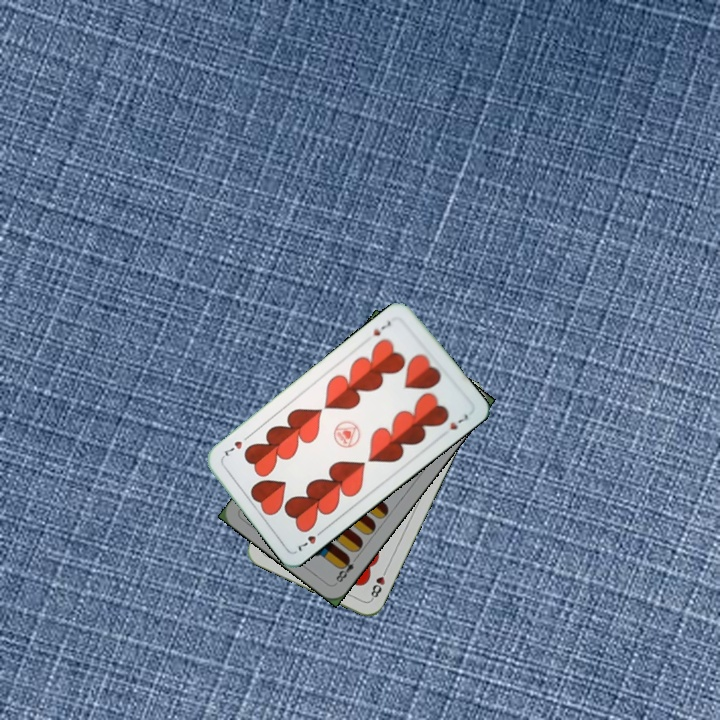E8: (332, 552, 361, 585)
H7: (294, 525, 327, 554), (369, 316, 394, 339)
H8: (366, 564, 390, 602)
